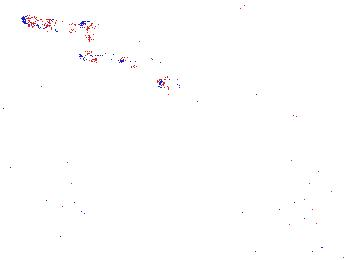glassfish: (80, 127, 187, 188)
red belly glassfish: (288, 108, 333, 126), (116, 53, 155, 72), (76, 47, 120, 63), (151, 75, 182, 93)
redtail glassfish: (19, 11, 93, 41)
